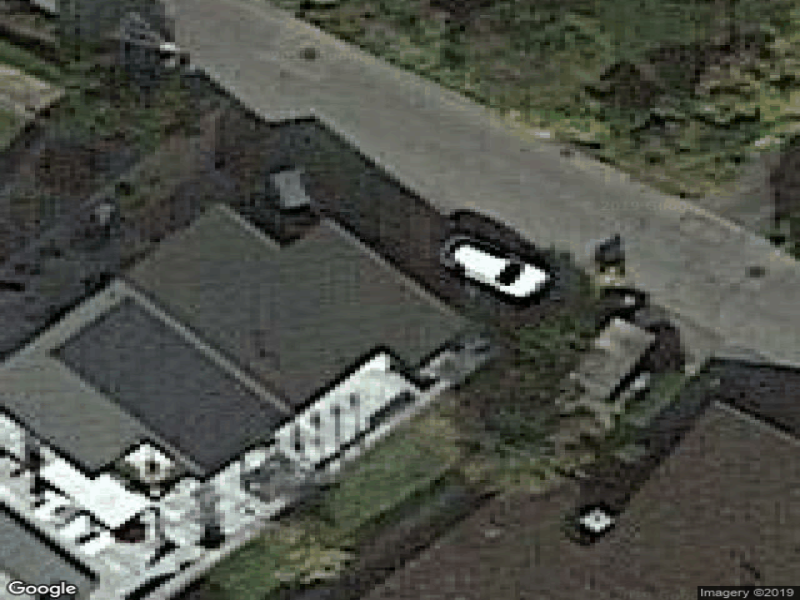pv: (55, 301, 289, 469)
